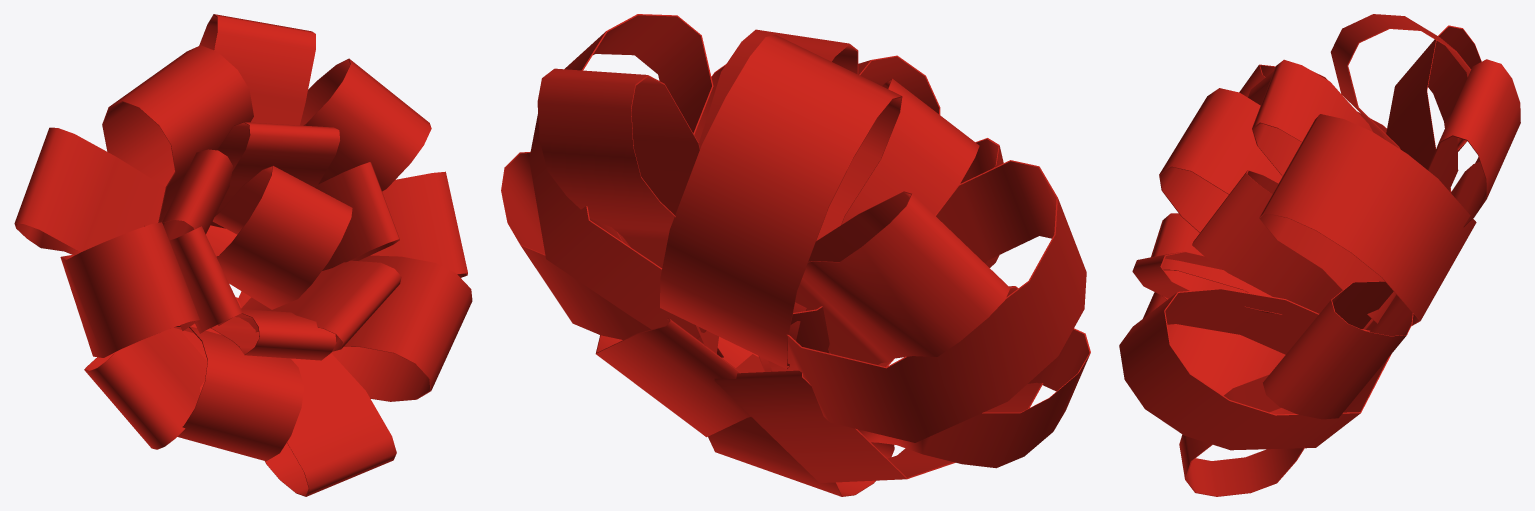
File: bow.obj
The picture shows the model from 3 angles, left to right: view 1: azimuth 30°, elevation 25°; view 2: azimuth 150°, elevation 25°; view 3: azimuth 270°, elevation 25°; orthographic projection. The views are drawn at different scales.
Visible parts, largest first — view 1: dynamic; view 2: dynamic; view 3: dynamic.
Part boxes in pixels (x1=…): dynamic: x1=14, y1=14, x2=472, y2=496; dynamic: x1=501, y1=14, x2=1090, y2=496; dynamic: x1=1119, y1=14, x2=1520, y2=496.
Bounding box in the file's own units: 1771 × 1632 × 1369.
